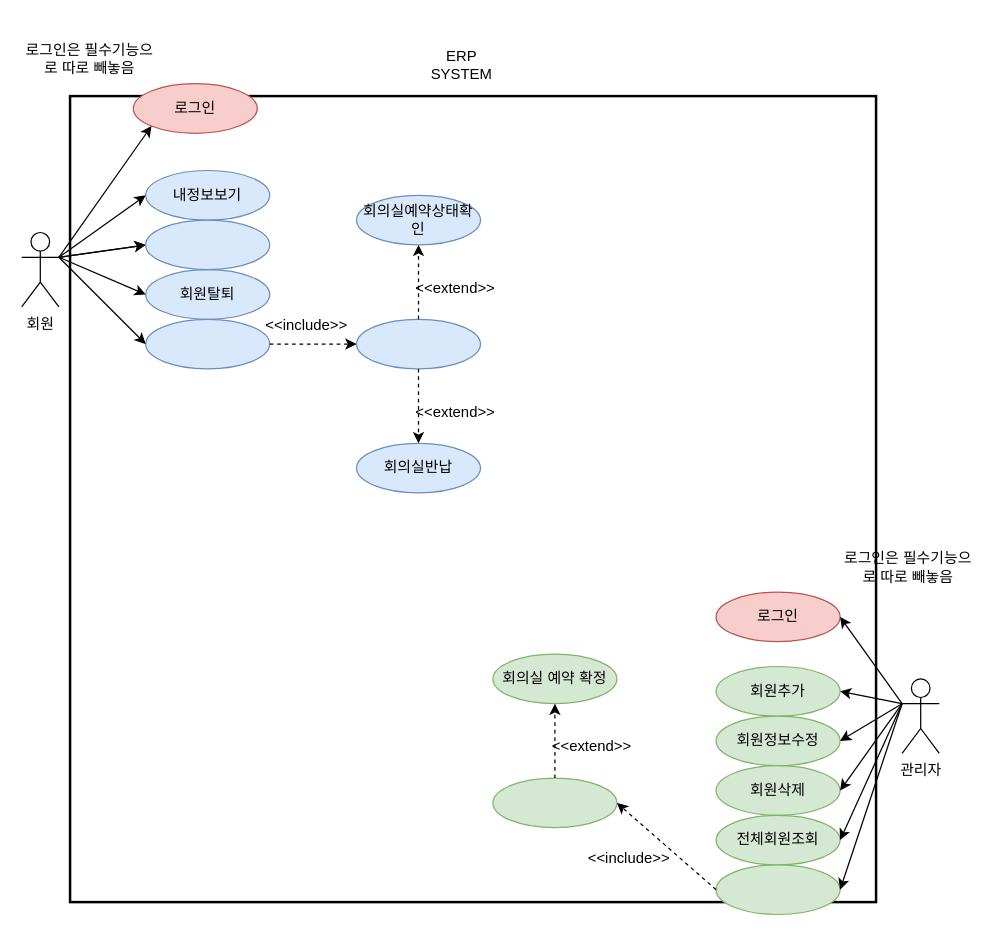
Image size: 998x936. Some labels were removed from this diagram. Here are the shapes that lost their labels. From the top down, the centre of each, then its label:
At (x=207, y=244): "내정보수정".
At (x=207, y=343): "회의실예약".
At (x=417, y=343): "회의실조회".
At (x=554, y=802): "회의실관리목록조회".
At (x=777, y=889): "회의실 예약관리".
